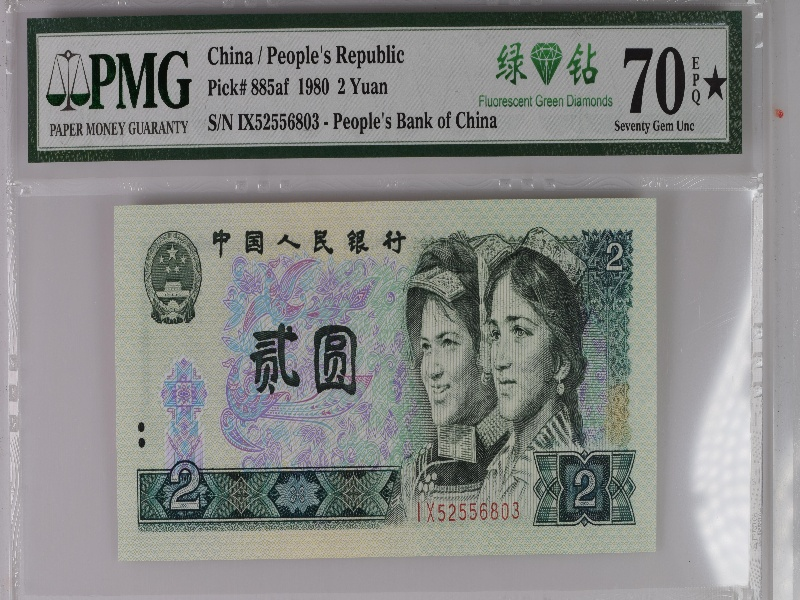papernote: (110, 199, 661, 558)
